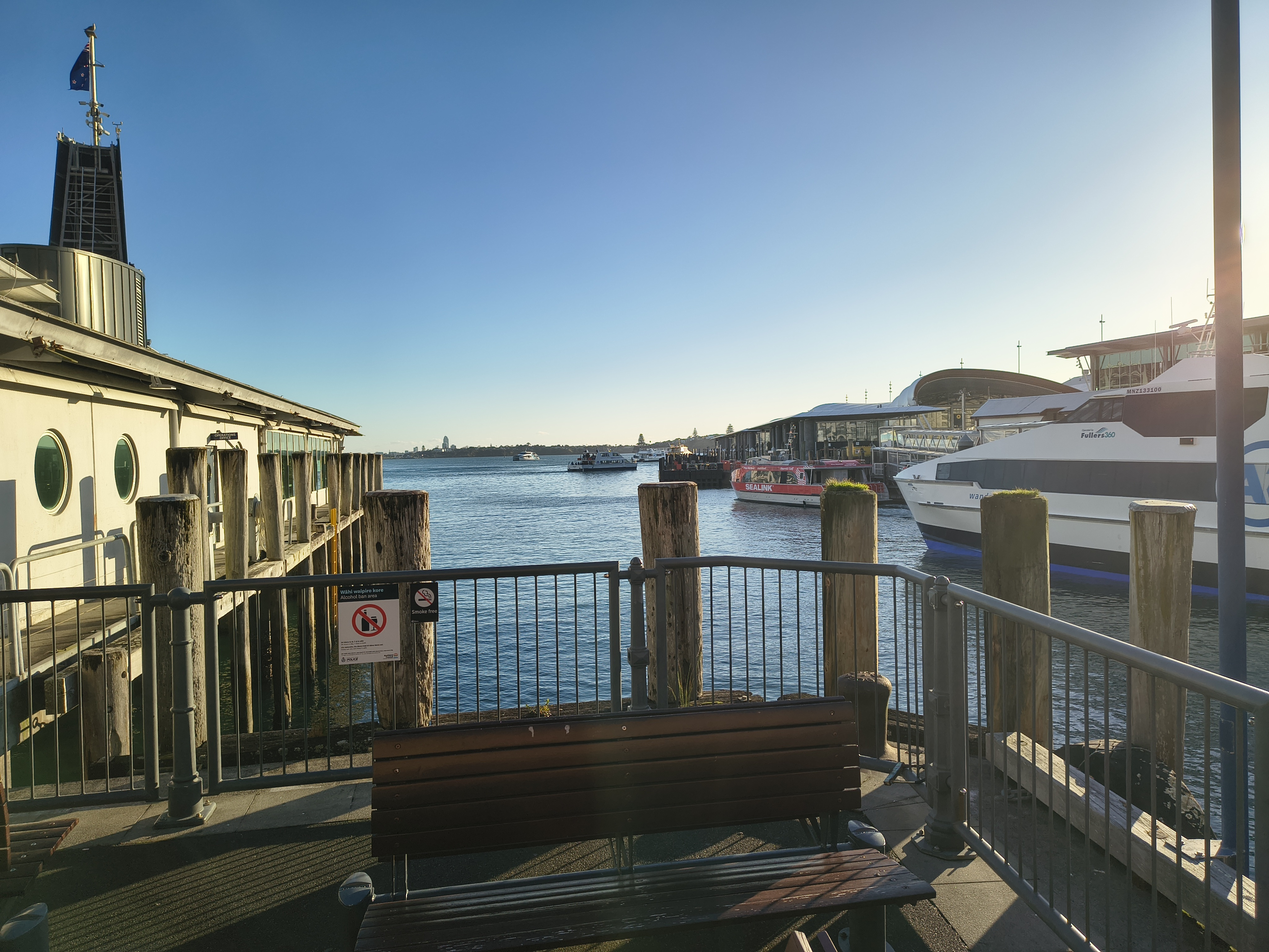ferry: (892, 290, 1269, 603), (568, 450, 635, 471), (633, 447, 668, 462), (513, 448, 540, 460)
